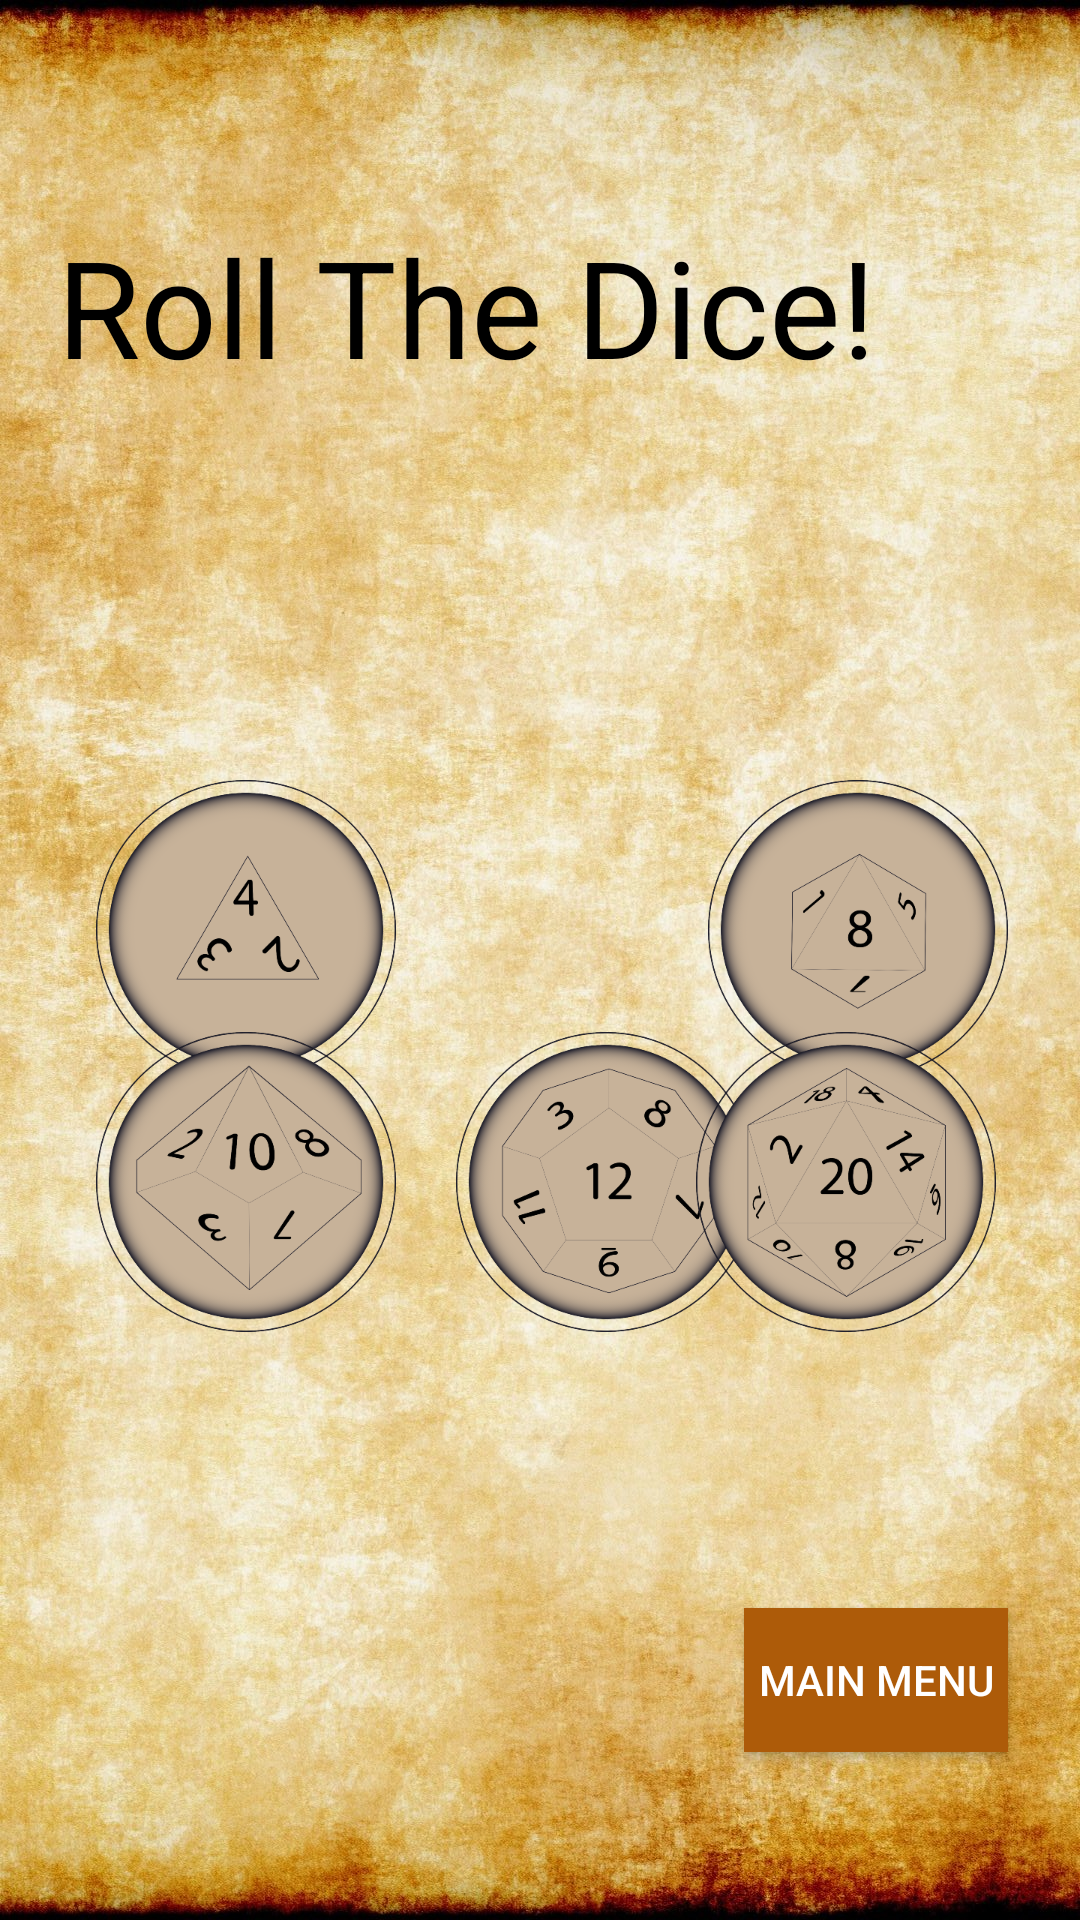

Icons on this 1080w x 1920h Android screen, each with the point to tap as (x=x, y=y):
eight sided die: (x=858, y=930)
four sided die: (x=246, y=930)
ten sided die: (x=246, y=1182)
twelve sided die: (x=606, y=1182)
twenty sided die: (x=846, y=1182)
